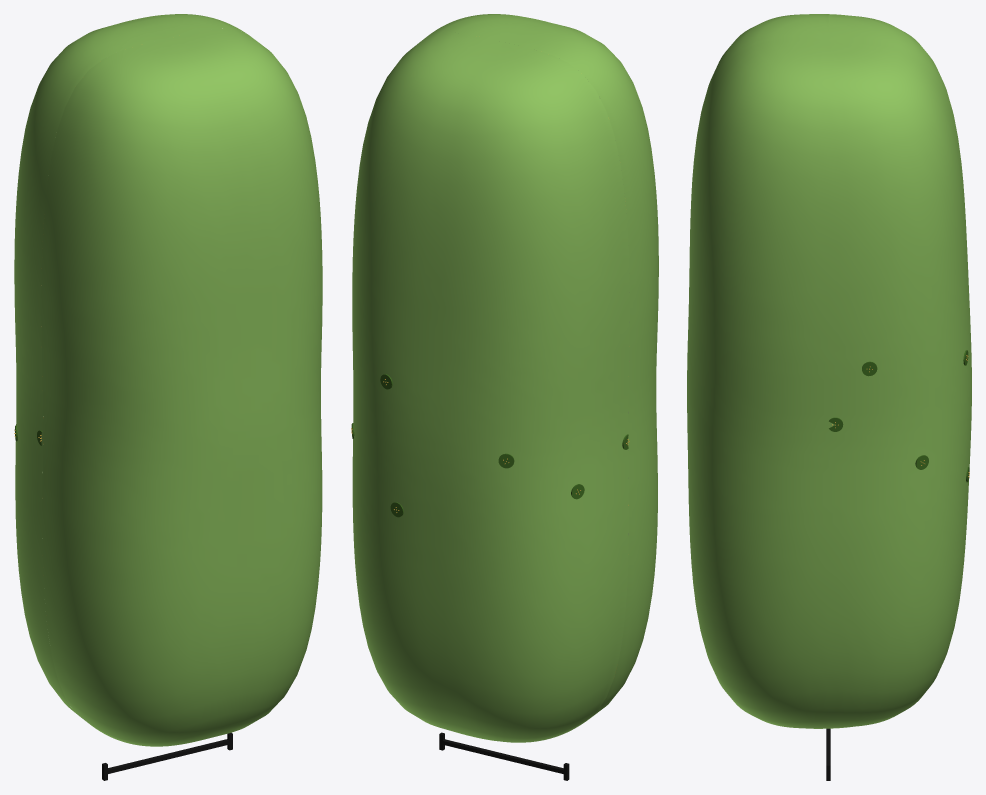
Rendered from zelle78.glb.
The picture shows the model from 3 angles, left to right: view 1: azimuth 30°, elevation 25°; view 2: azimuth 150°, elevation 25°; view 3: azimuth 270°, elevation 25°; orthographic projection. The views are drawn at different scales.
Visible parts, largest first — view 1: vorderseite_wand, zellwand_wand, zellwand_massstab; view 2: zellwand_wand, vorderseite_wand, zellwand_massstab, tuepfel_tuepfel; view 3: vorderseite_wand, zellwand_wand, tuepfel_tuepfel.
Part boxes in pixels (x1,y1,x2,y2): vorderseite_wand: (41, 28, 322, 746); zellwand_wand: (14, 14, 245, 712); zellwand_massstab: (102, 732, 232, 780); zellwand_wand: (352, 32, 629, 742); vorderseite_wand: (426, 14, 658, 721); zellwand_massstab: (439, 732, 569, 780); tuepfel_tuepfel: (351, 374, 628, 517); vorderseite_wand: (687, 14, 828, 728); zellwand_wand: (828, 14, 971, 728); tuepfel_tuepfel: (829, 350, 969, 482).
Bounding box in the file's own units: 20.21 × 55.52 × 20.17.
